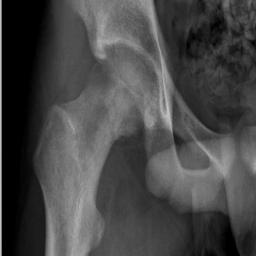cancer: (105, 44, 160, 155)
